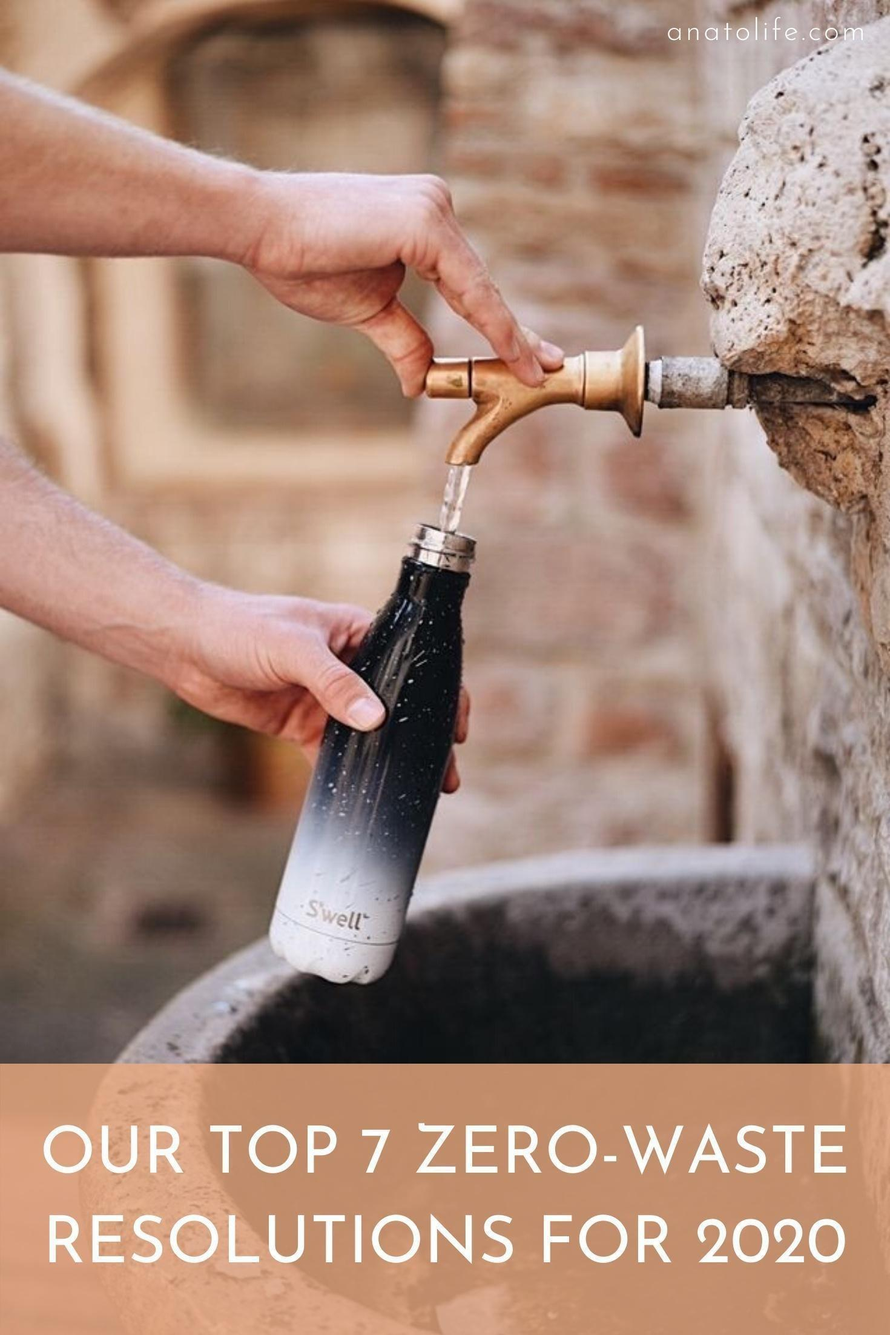gym bottle: (268, 523, 478, 983)
